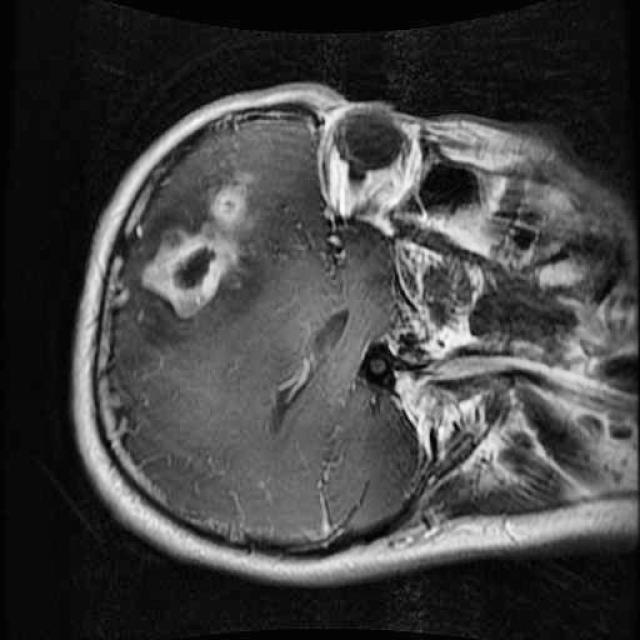Tumor: (124, 156, 274, 329)
